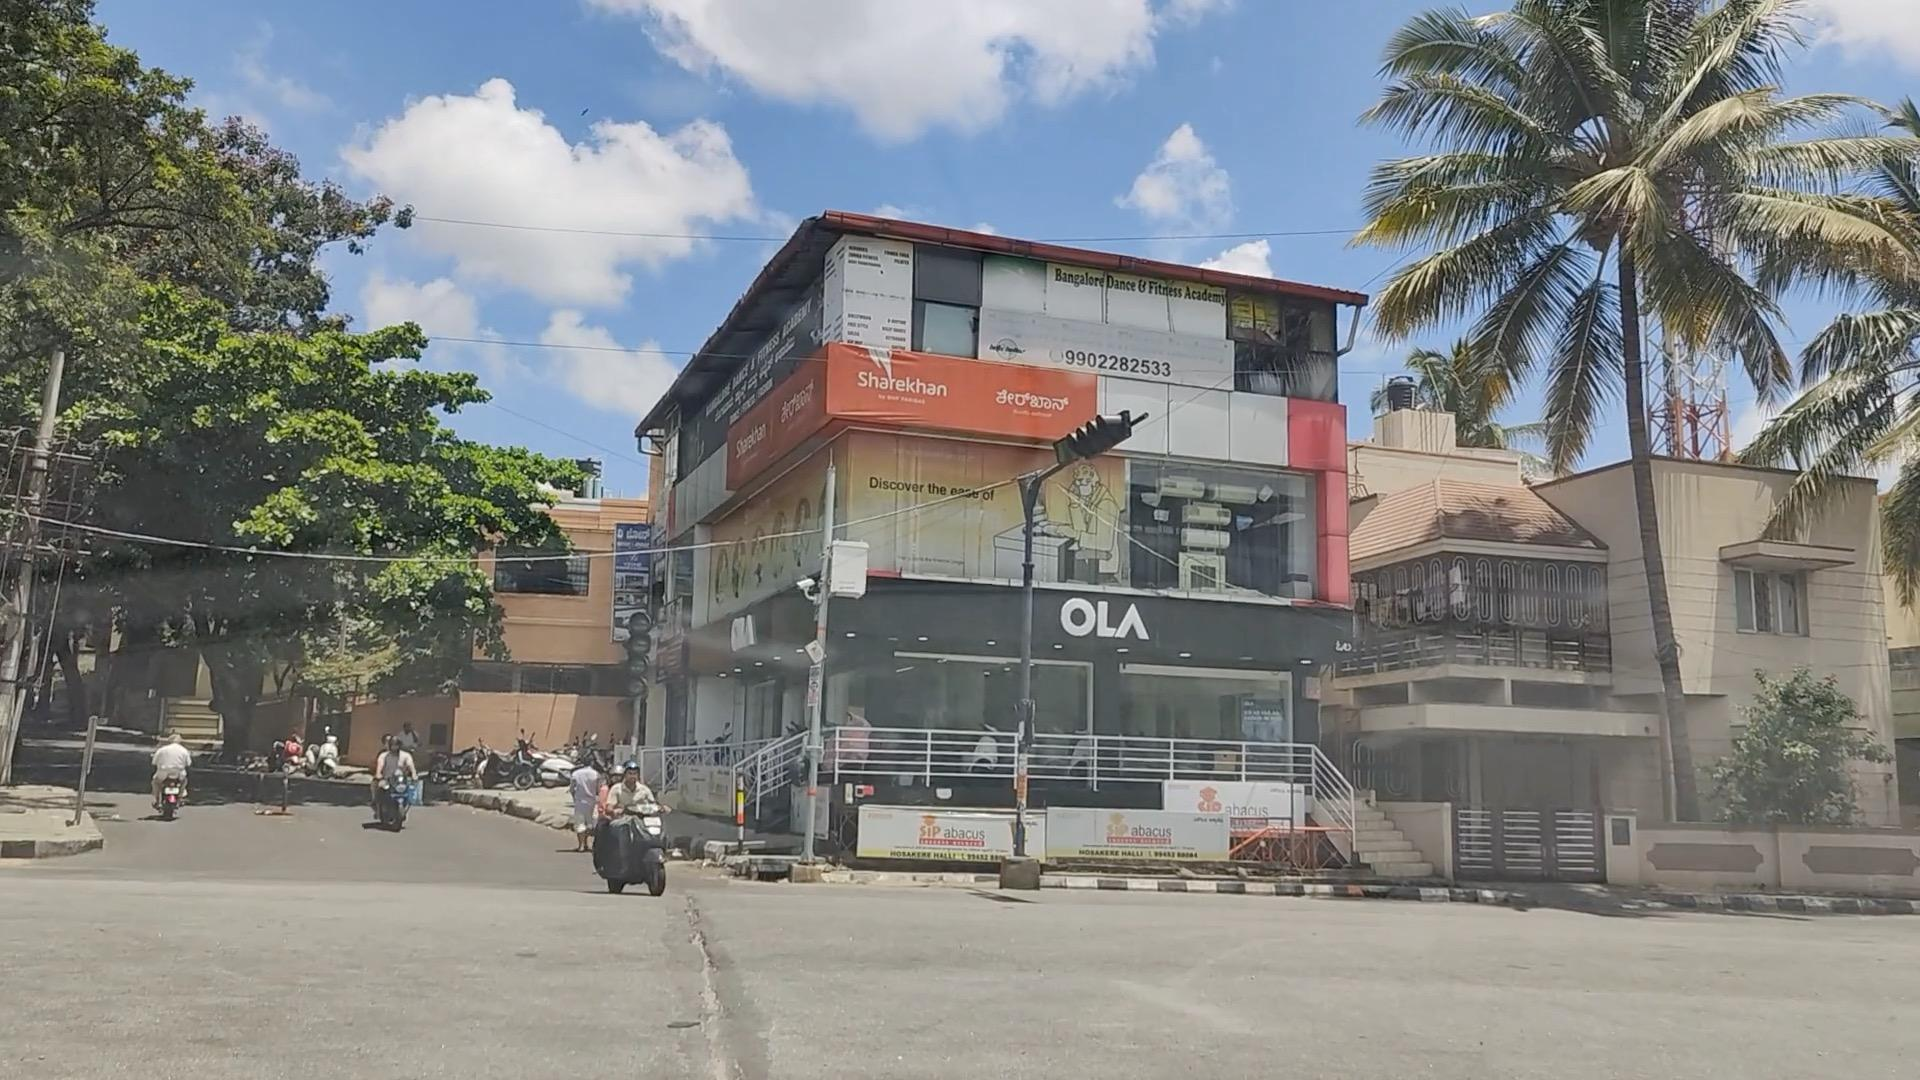RoadDamages: (630, 886, 799, 1059)
